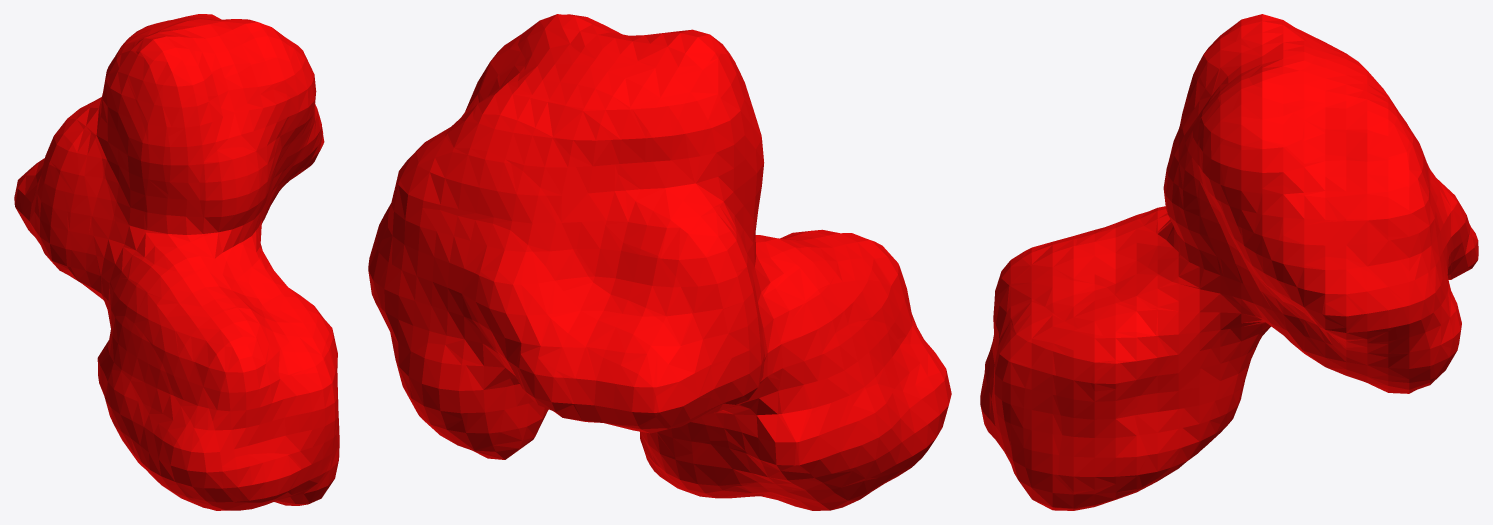
Rendered from ilvH_coarse.dae.
The picture shows the model from 3 angles, left to right: view 1: azimuth 30°, elevation 25°; view 2: azimuth 150°, elevation 25°; view 3: azimuth 270°, elevation 25°; orthographic projection. The views are drawn at different scales.
Parts seen in each view (by area): view 1: ilvH; view 2: ilvH; view 3: ilvH.
Boxes of the visible parts, box(x1,y1,x2,y2) form: ilvH: box(14, 14, 339, 510); ilvH: box(368, 14, 951, 510); ilvH: box(980, 14, 1478, 510).
Bounding box in the file's own units: 40.15 × 54.34 × 53.13.
